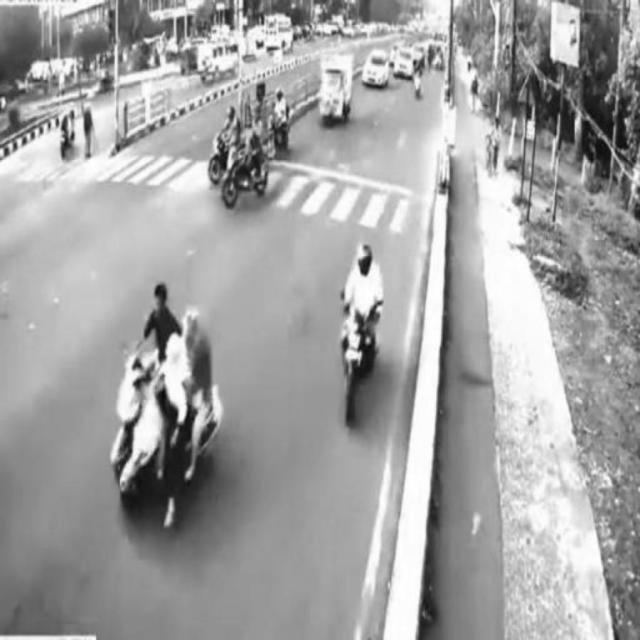accident: (117, 280, 227, 523)
vehicle: (342, 245, 380, 419), (224, 130, 270, 203), (210, 107, 252, 183), (318, 56, 356, 123)
